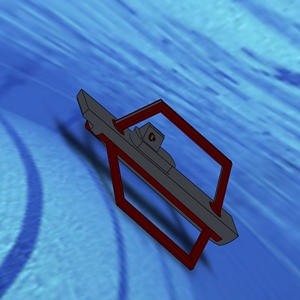submarine: (58, 58, 256, 276)
